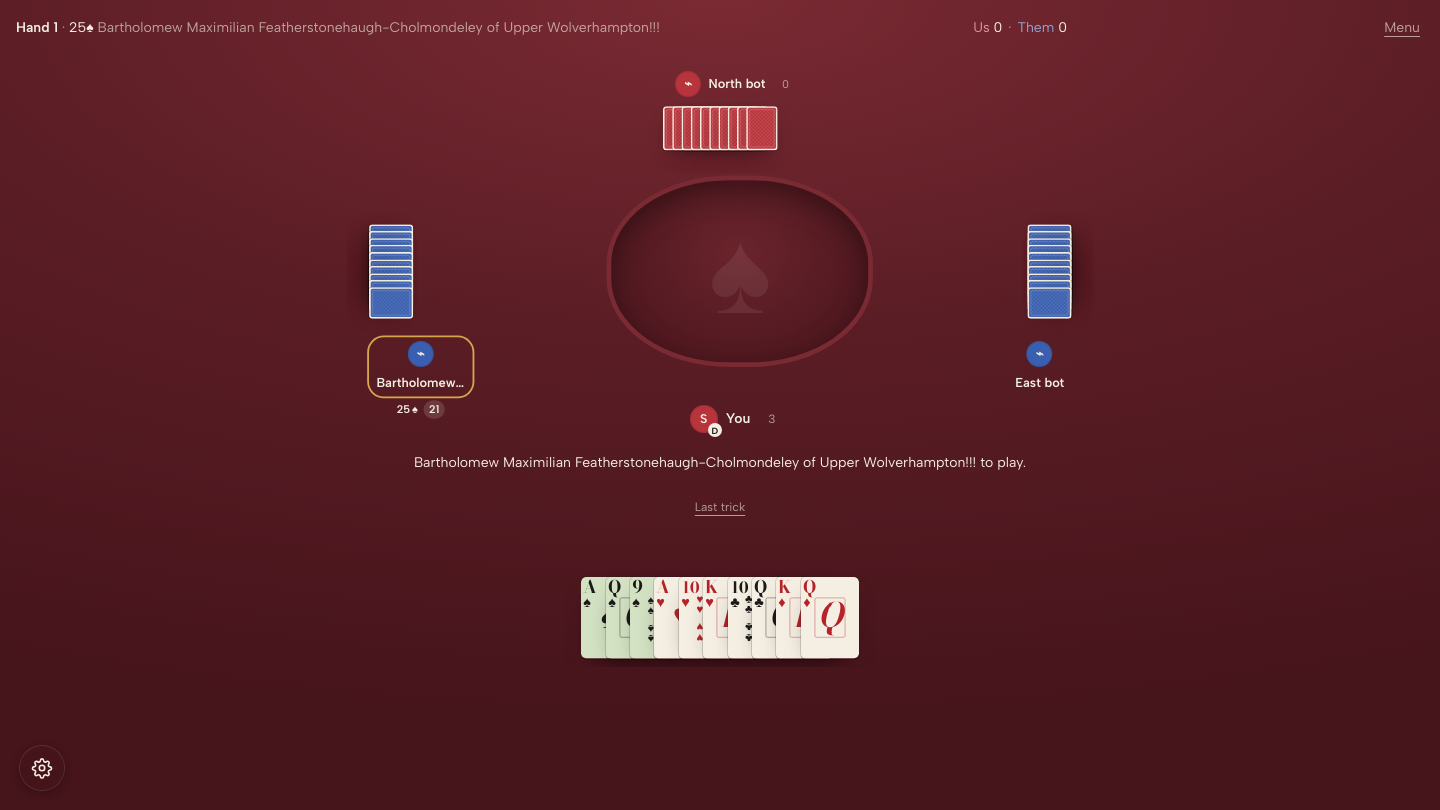
Scenario: trick play status above the hand › shows the last trick again and goes back to the table
Click the button "Last trick".
click(720, 507)  # box [695,499,745,515]
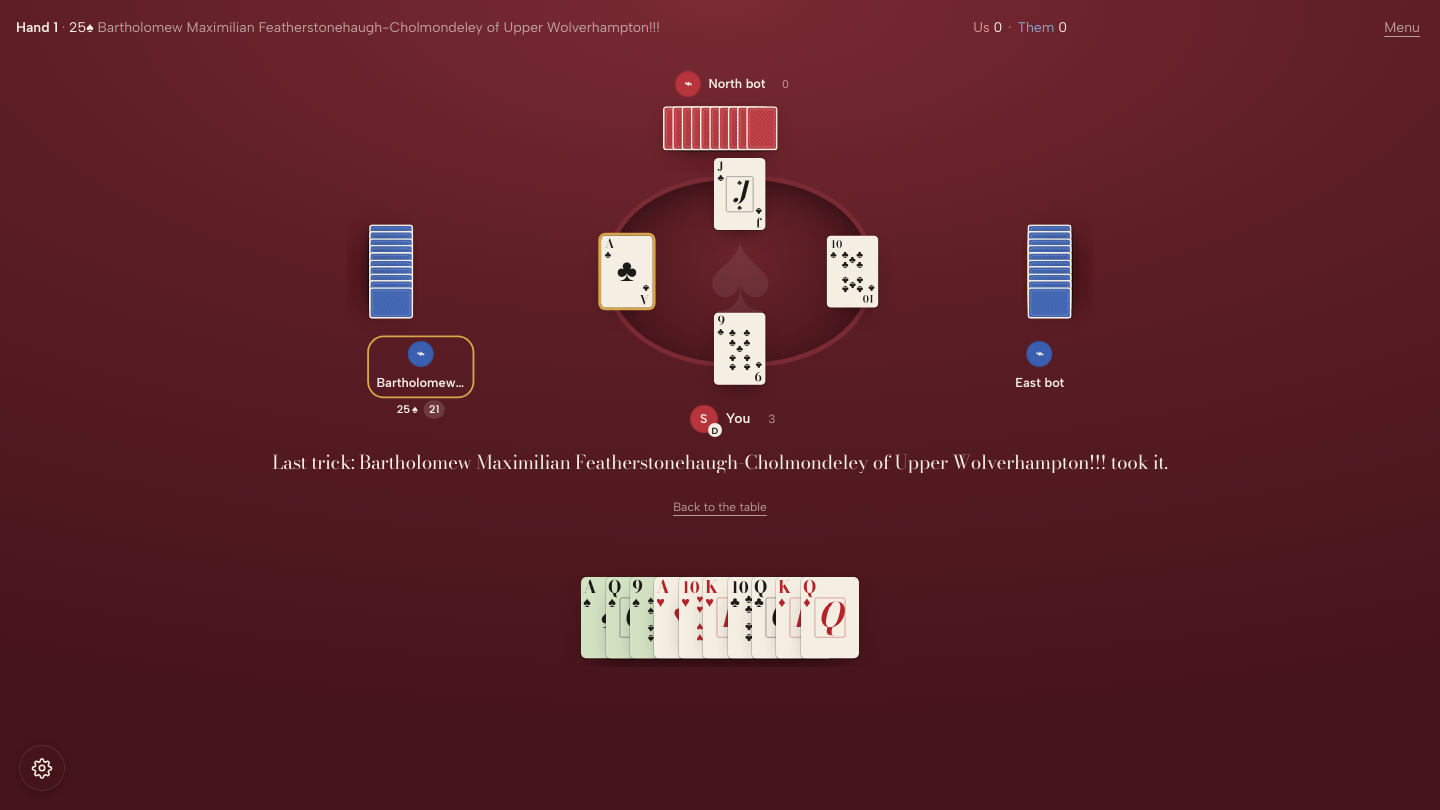
Click the button "Back to the table".
click(720, 507)  # box [673,499,767,515]
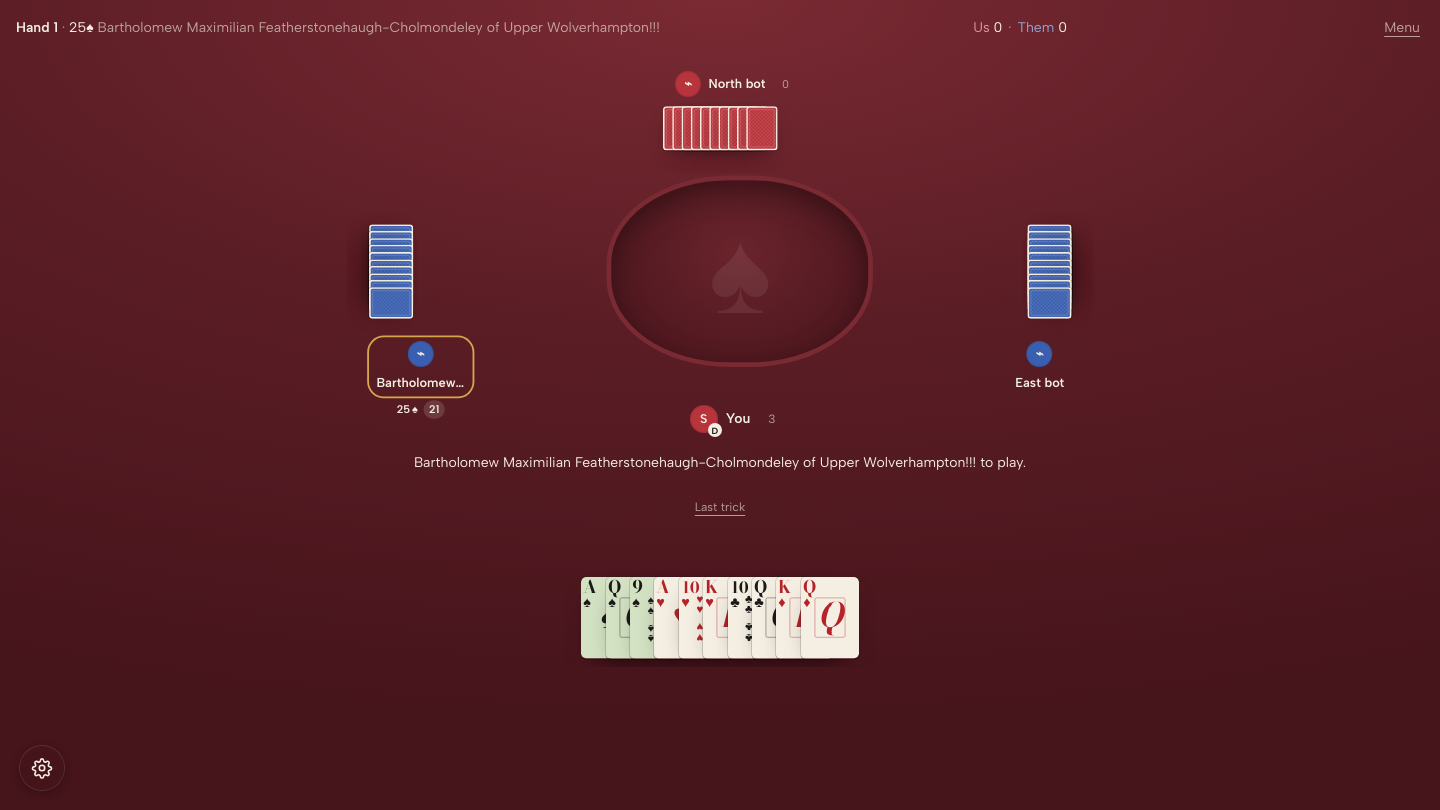
Now the button "Last trick" is shown, box [695,499,745,515]
